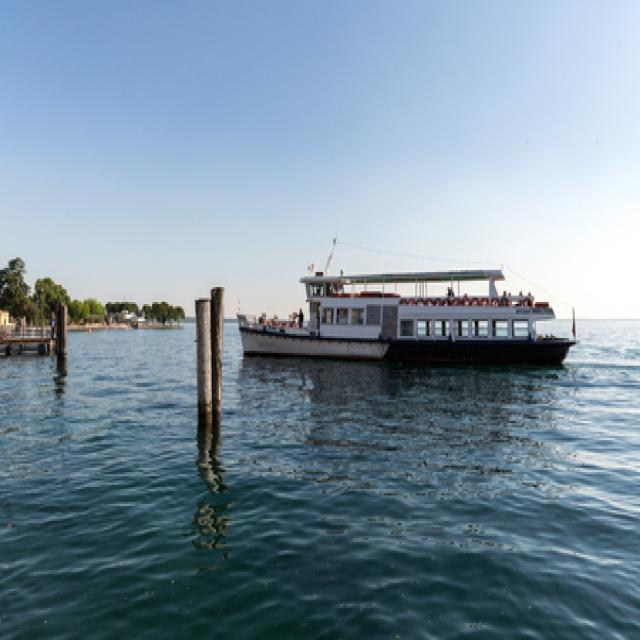passenger ship: (235, 253, 574, 370)
